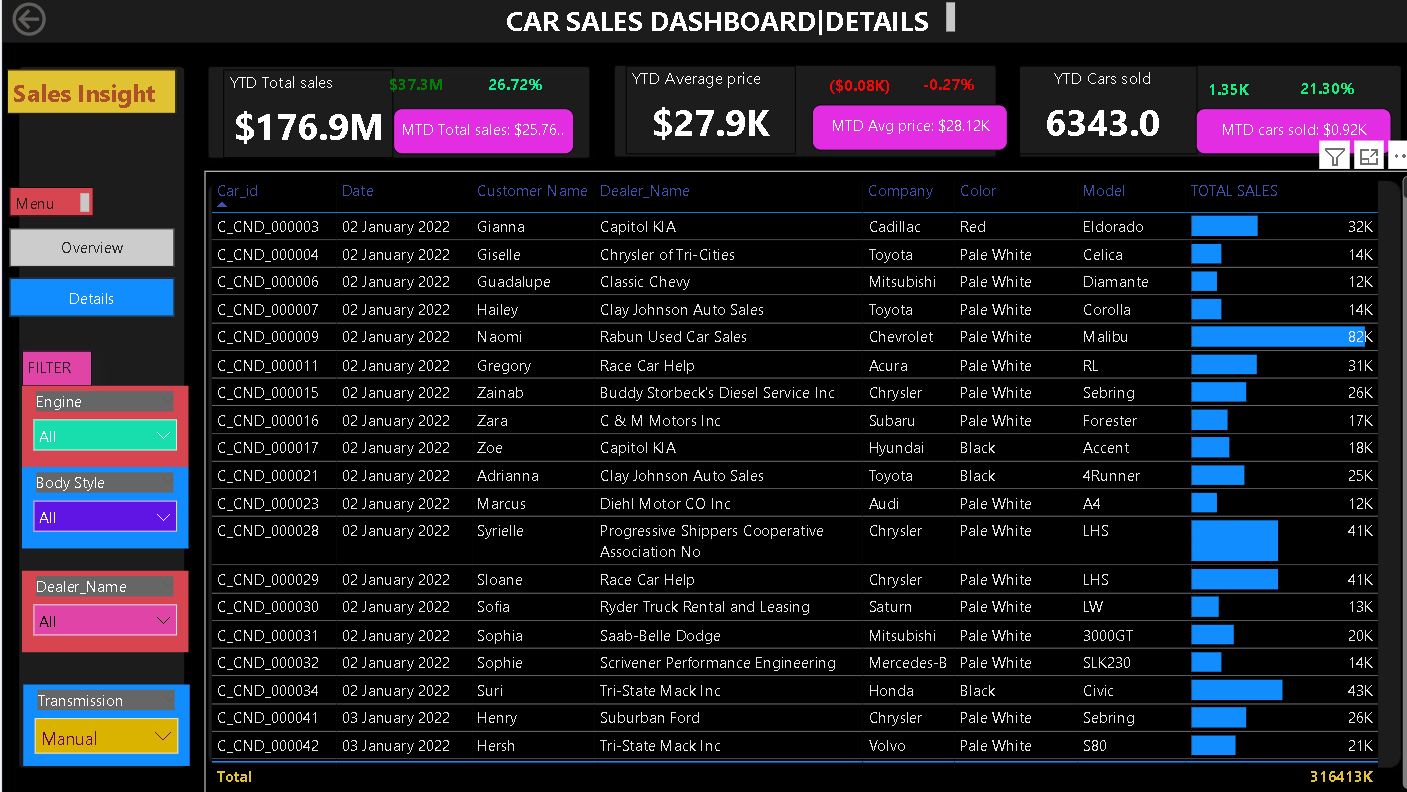

Layout of this report page (visuals, bound fields, positions):
{"tool":"powerbi","page":{"name":"Details","canvas":[1280,720],"ordinal":1},"visuals":[{"type":"card","title":"YTD Total sales","fields":{"Values":["car_data.YTD Total sales"]},"box":[200,65,153.3,80],"z":0},{"type":"card","fields":{"Values":["car_data.sales difference"]},"box":[316.7,65,116.7,31.7],"z":1000},{"type":"card","fields":{"Values":["car_data.you sales growth"]},"box":[410,65,106.7,31.7],"z":2000},{"type":"card","fields":{"Values":["car_data.MTD KPI"]},"box":[353.3,100,163.3,41.7],"z":3000},{"type":"card","title":"YTD Average  price","fields":{"Values":["car_data.YTD Average Price"]},"box":[563.3,61.7,153.3,80],"z":4000},{"type":"card","fields":{"Values":["car_data.Average price diff"]},"box":[717.1,65.3,117.1,31.8],"z":5000},{"type":"card","fields":{"Values":["car_data.YOY avg price growth"]},"box":[801.7,65,106.7,31.7],"z":6000},{"type":"card","fields":{"Values":["car_data.MTD avg price kpi"]},"box":[731.7,96.7,176.7,41.7],"z":7000},{"type":"card","title":"YTD Cars sold","fields":{"Values":["car_data.ytd cars sold"]},"box":[908.3,61.7,171.7,80],"z":8000},{"type":"card","fields":{"Values":["car_data.cars sold diff"]},"box":[1050,70,116.7,31.7],"z":9000},{"type":"card","fields":{"Values":["car_data.MTD cars sold kpi"]},"box":[1078.6,100,177.1,41.4],"z":10000},{"type":"actionButton","box":[5,0,100,40],"z":11000},{"type":"card","fields":{"Values":["car_data.yoy car sold growth"]},"box":[1138,69.1,117.9,31.2],"z":12000},{"type":"textbox","box":[450.5,0,415.5,39.5],"z":13000},{"type":"textbox","box":[18.3,320,63.3,31.7],"z":14000},{"type":"tableEx","fields":{"Values":["car_data.Car_id","car_data.Date","car_data.Customer Name","car_data.Dealer_Name","car_data.Company","car_data.Color","car_data.Model","car_data.total sales"]},"box":[183.3,156.7,1096.7,563.3],"z":15000},{"type":"pageNavigator","box":[6.8,208.9,149,81.3],"z":16000},{"type":"textbox","box":[5,65,152.5,40],"z":17000},{"type":"textbox","box":[6.2,171.2,76.2,26.2],"z":18000},{"type":"slicer","fields":{"Values":["car_data.Engine"]},"box":[18.1,351.2,150.2,73.4],"z":19000},{"type":"slicer","fields":{"Values":["car_data.Transmission"]},"box":[19.2,621,150.2,73.4],"z":20000},{"type":"slicer","fields":{"Values":["car_data.Body Style"]},"box":[18.3,425,150,73.3],"z":21000},{"type":"slicer","fields":{"Values":["car_data.Dealer_Name"]},"box":[18.1,518.3,150.2,73.4],"z":22000}]}

Visuals, with their boxes on the page's 1280x720 design canvas (x1, y1, x2, y2). These are canvas units, not pixel positions in the 1407x792 screenshot, which may show the page scaled, cropped or inside an application window:
"YTD Total sales" card: <bbox>200, 65, 353, 145</bbox>
card - car_data.sales difference: <bbox>317, 65, 433, 97</bbox>
card - car_data.you sales growth: <bbox>410, 65, 517, 97</bbox>
card - car_data.MTD KPI: <bbox>353, 100, 517, 142</bbox>
"YTD Average  price" card: <bbox>563, 62, 717, 142</bbox>
card - car_data.Average price diff: <bbox>717, 65, 834, 97</bbox>
card - car_data.YOY avg price growth: <bbox>802, 65, 908, 97</bbox>
card - car_data.MTD avg price kpi: <bbox>732, 97, 908, 138</bbox>
"YTD Cars sold" card: <bbox>908, 62, 1080, 142</bbox>
card - car_data.cars sold diff: <bbox>1050, 70, 1167, 102</bbox>
card - car_data.MTD cars sold kpi: <bbox>1079, 100, 1256, 141</bbox>
actionButton: <bbox>5, 0, 105, 40</bbox>
card - car_data.yoy car sold growth: <bbox>1138, 69, 1256, 100</bbox>
textbox: <bbox>450, 0, 866, 40</bbox>
textbox: <bbox>18, 320, 82, 352</bbox>
tableEx - car_data.Car_id x car_data.Date: <bbox>183, 157, 1280, 720</bbox>
pageNavigator: <bbox>7, 209, 156, 290</bbox>
textbox: <bbox>5, 65, 158, 105</bbox>
textbox: <bbox>6, 171, 82, 197</bbox>
slicer - car_data.Engine: <bbox>18, 351, 168, 425</bbox>
slicer - car_data.Transmission: <bbox>19, 621, 169, 694</bbox>
slicer - car_data.Body Style: <bbox>18, 425, 168, 498</bbox>
slicer - car_data.Dealer_Name: <bbox>18, 518, 168, 592</bbox>
